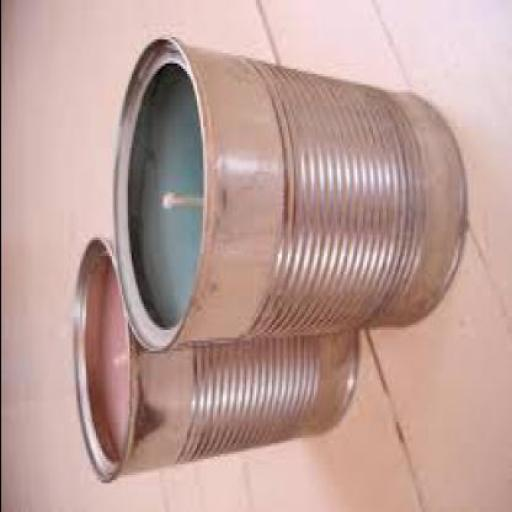metal: (110, 34, 465, 348), (70, 234, 358, 480)
